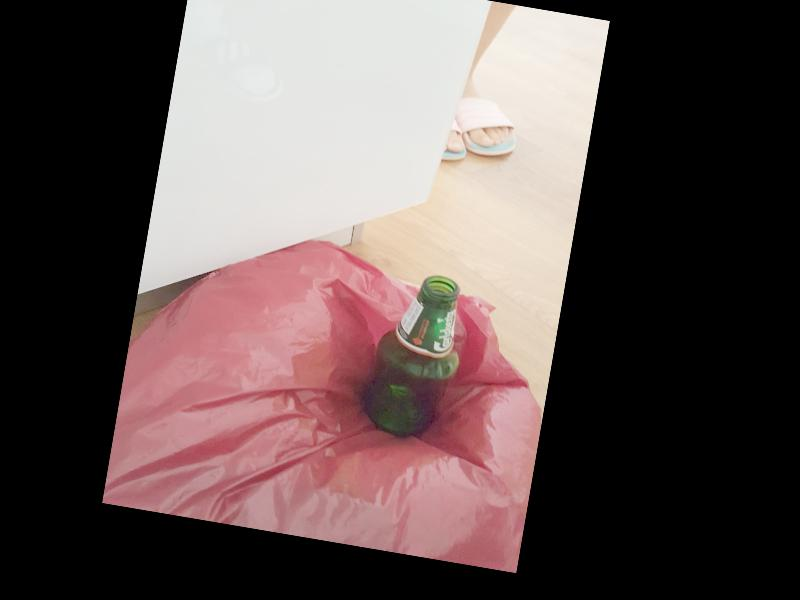Beer: (356, 267, 471, 444)
